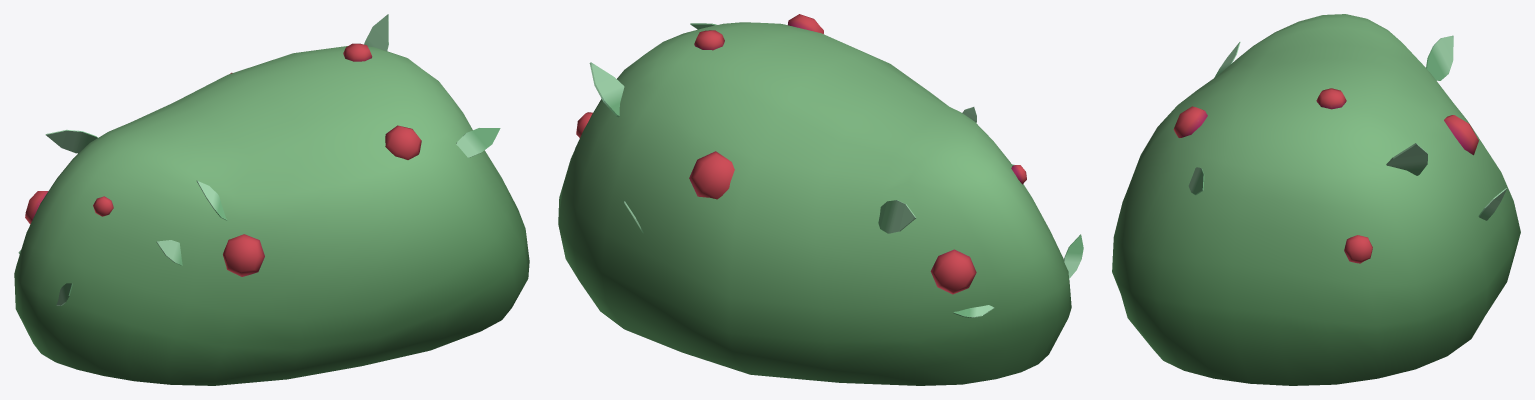
File: SM_BushWithBerries.fbx
3 views of the same model, side by side, from view 1: azimuth 30°, elevation 25°; view 2: azimuth 150°, elevation 25°; view 3: azimuth 270°, elevation 25° (orthographic). The views are drawn at different scales.
Parts seen in each view (by area): view 1: SM_BushWithBerries; view 2: SM_BushWithBerries; view 3: SM_BushWithBerries.
Part boxes in pixels (bbox=[...]): SM_BushWithBerries: bbox=[14, 14, 529, 385]; SM_BushWithBerries: bbox=[558, 14, 1083, 385]; SM_BushWithBerries: bbox=[1112, 14, 1520, 385].
Size of the model in its own units: 374 by 190 by 280.
